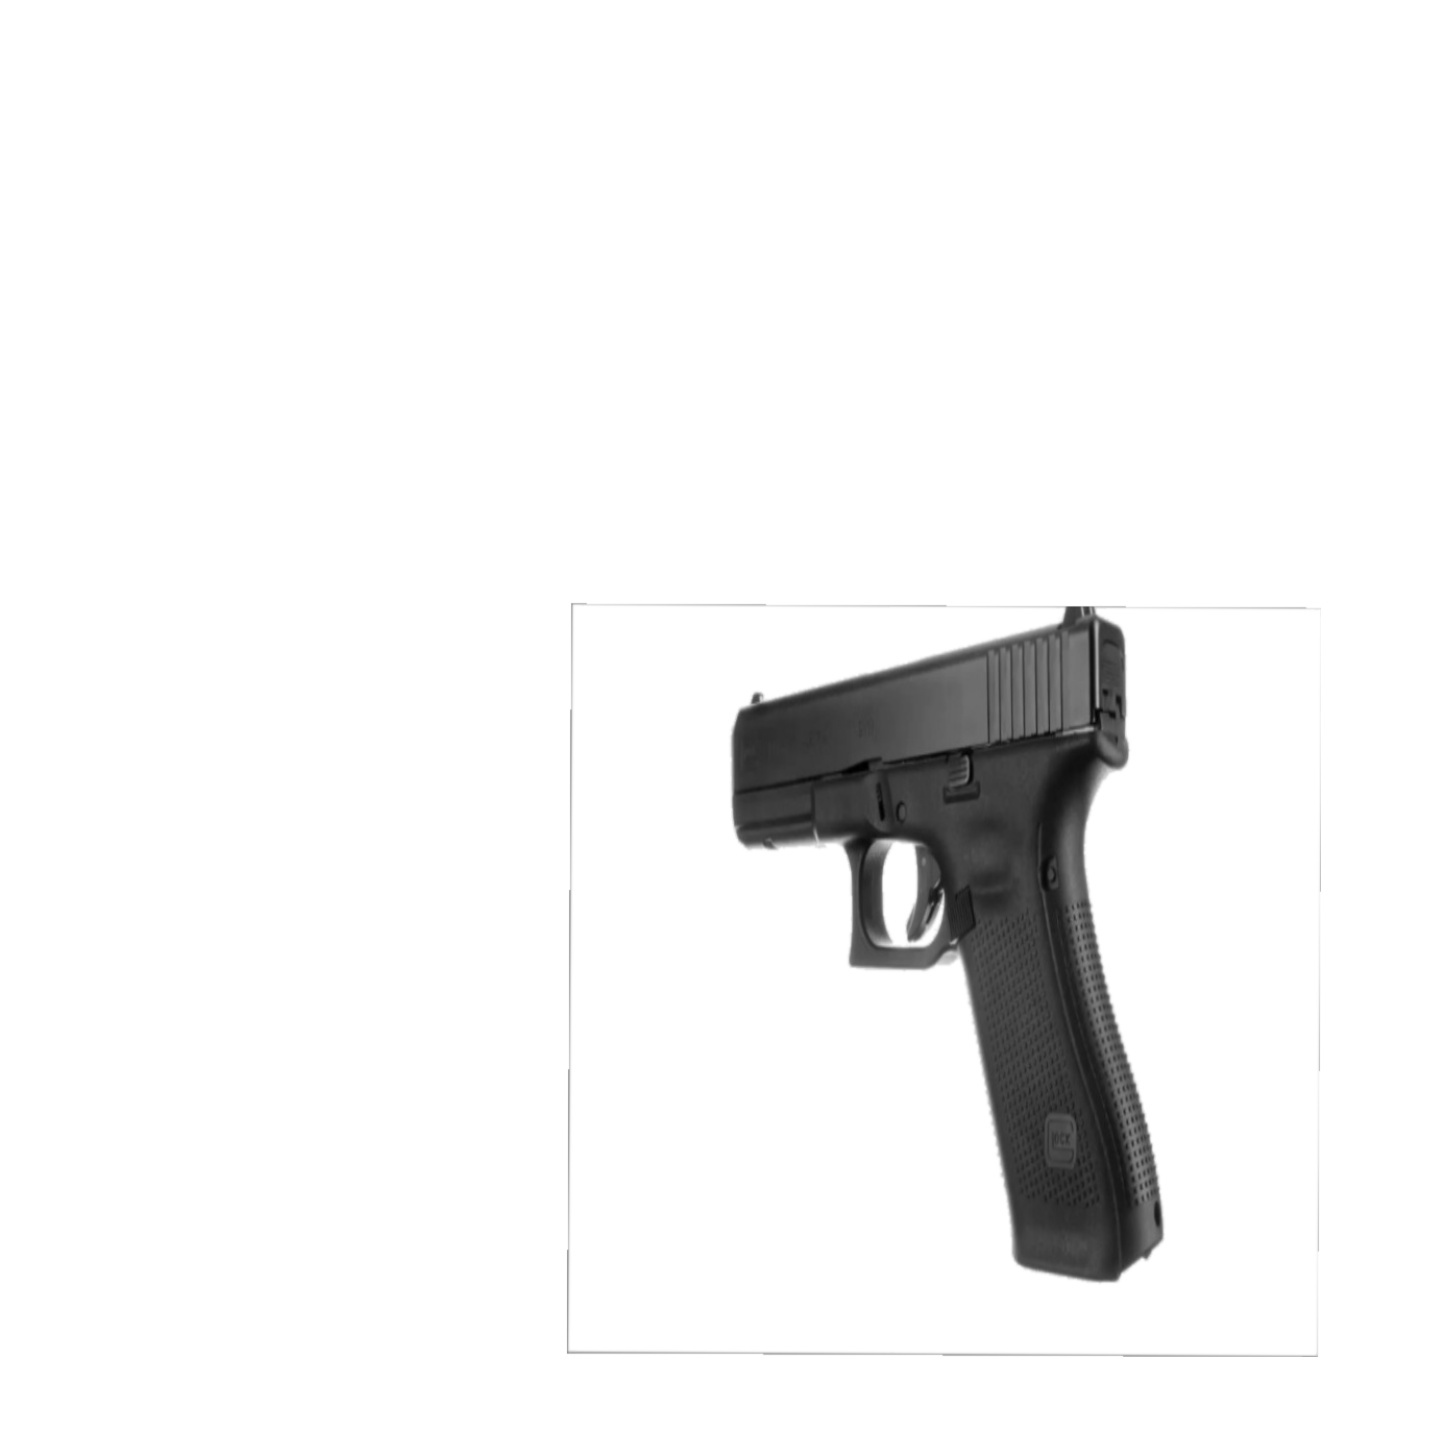gun: (705, 599, 1180, 1291)
